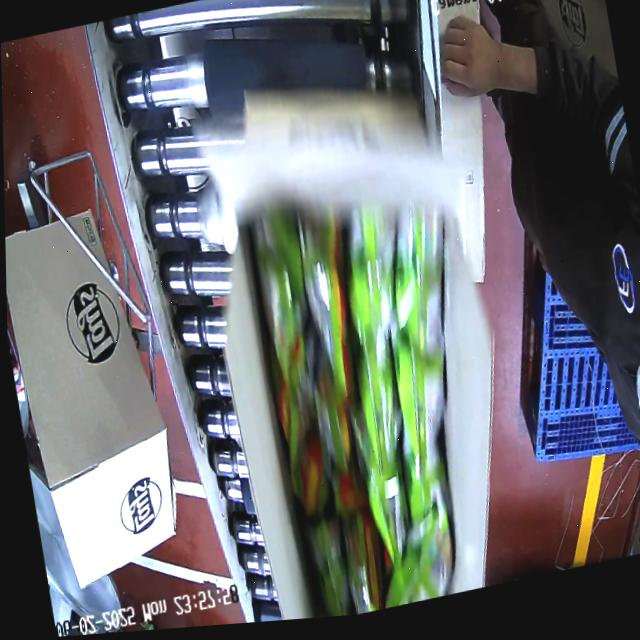YOGURT_HERB: (250, 185, 491, 622)
